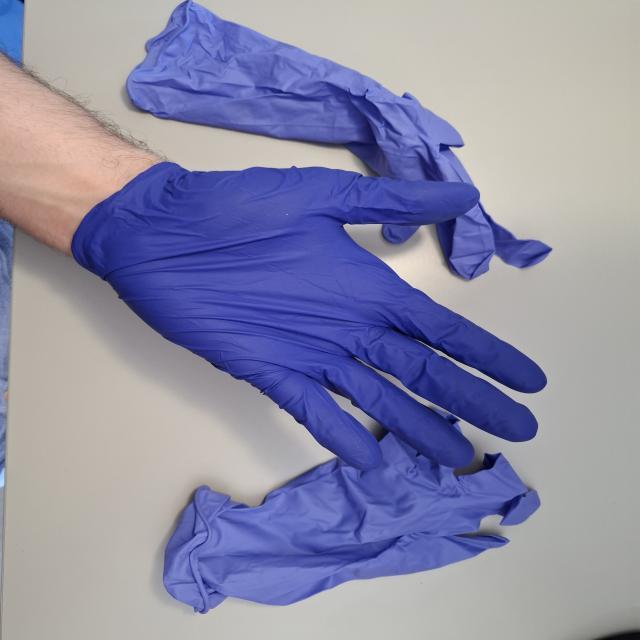glove_on: (61, 154, 554, 472)
